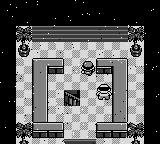main: (81, 63, 94, 75)
no-caminable: (1, 0, 160, 143), (32, 27, 128, 42), (112, 59, 128, 122), (32, 61, 48, 122), (129, 27, 144, 57), (16, 27, 31, 57), (32, 123, 64, 137), (96, 123, 127, 137), (129, 123, 144, 143), (16, 123, 31, 143), (96, 58, 112, 73), (48, 59, 64, 73)
npc: (96, 85, 111, 99)
puerta: (64, 90, 80, 106), (62, 139, 98, 143)
